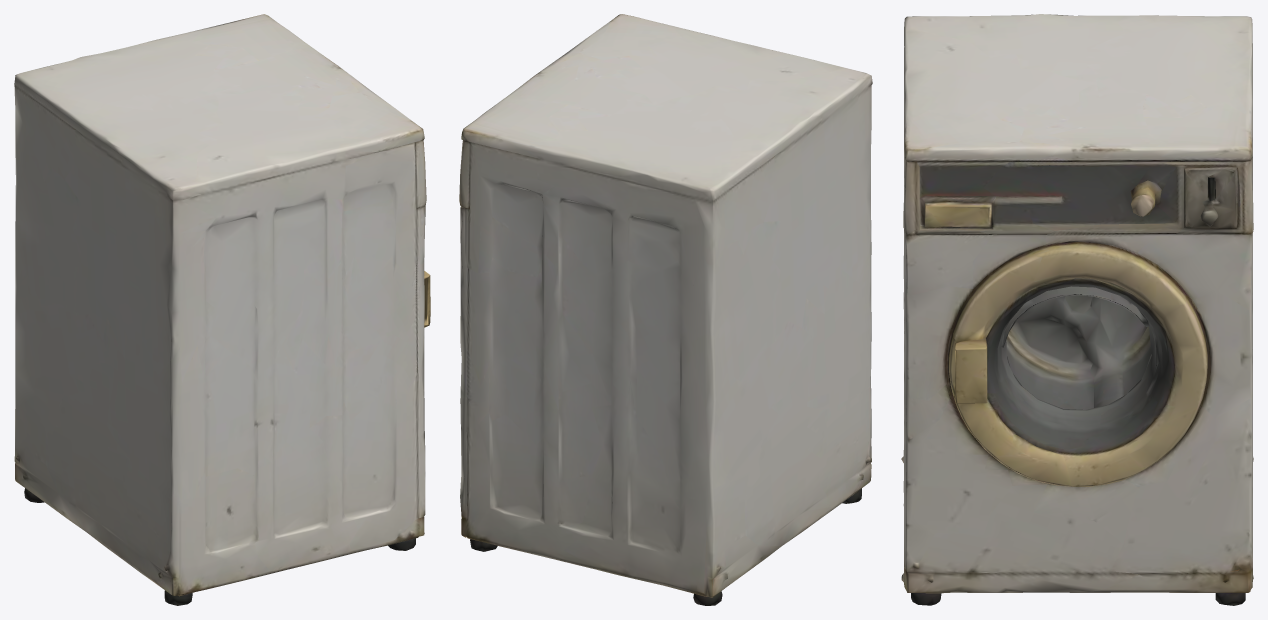
File: washer.glb
3 renders of one model, left to right at view 1: azimuth 30°, elevation 25°; view 2: azimuth 150°, elevation 25°; view 3: azimuth 270°, elevation 25°, orthographic. The views are drawn at different scales.
Parts seen in each view (by area): view 1: tripo_node_e0ae1f49-a59f-4ff0-a1bc-58d218b94aef; view 2: tripo_node_e0ae1f49-a59f-4ff0-a1bc-58d218b94aef; view 3: tripo_node_e0ae1f49-a59f-4ff0-a1bc-58d218b94aef.
Part boxes in pixels (x1,y1,x2,y2): tripo_node_e0ae1f49-a59f-4ff0-a1bc-58d218b94aef: [14, 14, 430, 605]; tripo_node_e0ae1f49-a59f-4ff0-a1bc-58d218b94aef: [459, 14, 872, 605]; tripo_node_e0ae1f49-a59f-4ff0-a1bc-58d218b94aef: [901, 14, 1253, 605].
Size of the model in its own units: 0.7038 by 1 by 0.6949.
1 material, 1 textured.
